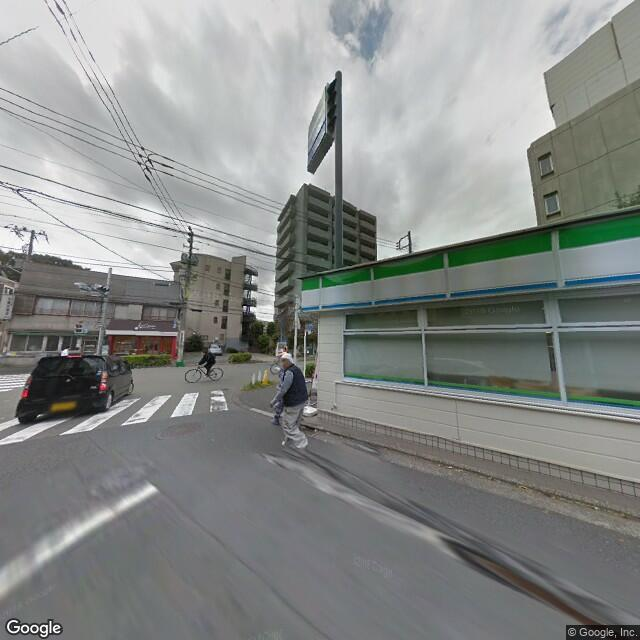family_mart: (297, 210, 639, 314)
